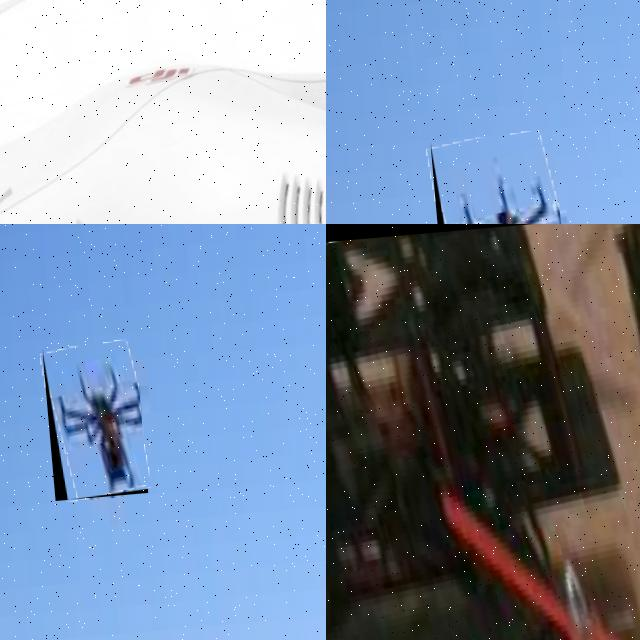0: (42, 340, 148, 500), (430, 130, 572, 224)
drone: (326, 224, 640, 640), (0, 0, 326, 224)
